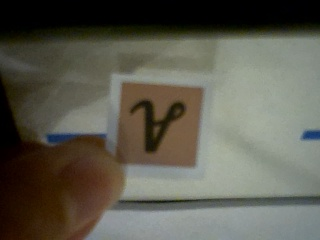A: (117, 80, 205, 170)
